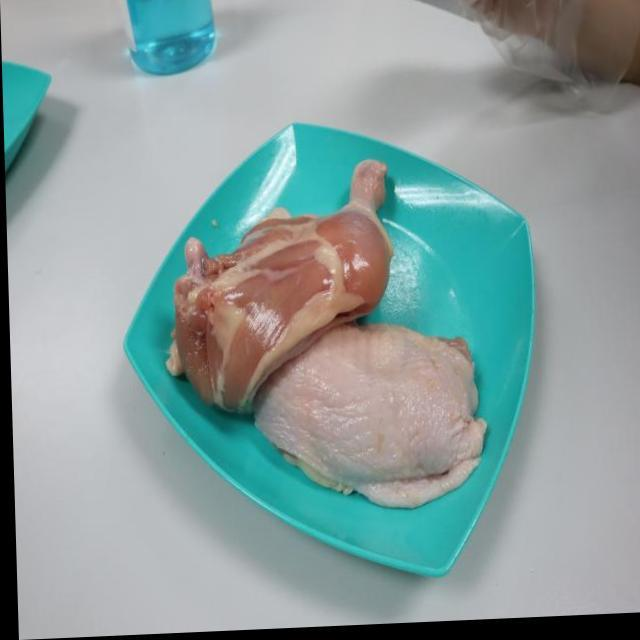quater: (120, 308, 483, 506), (154, 147, 390, 391)
